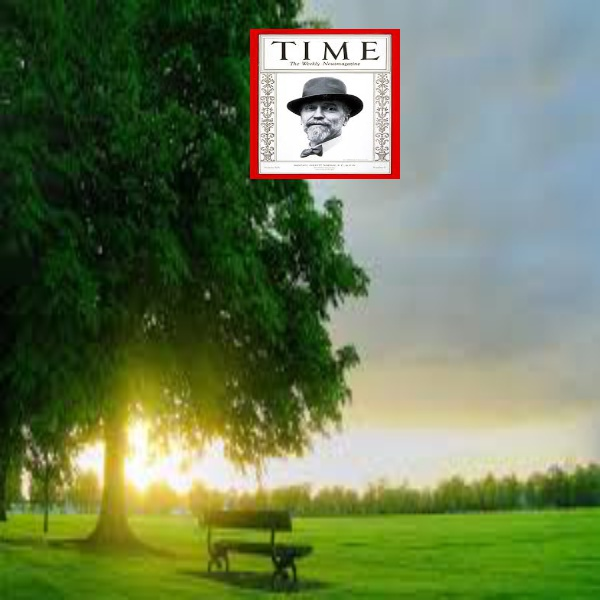time_cover: (245, 23, 399, 175)
